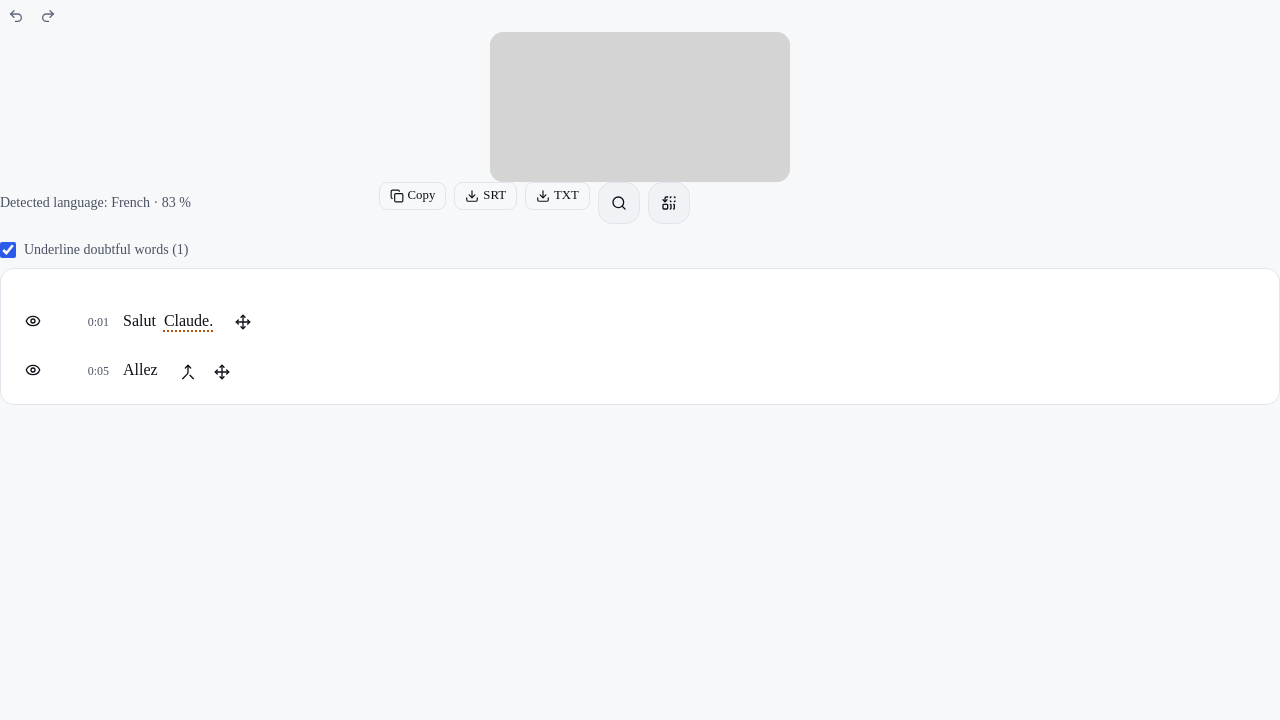
Test: TranscriptView › folds the search when the replace window opens
Click the button named "Search for a word" at (619, 203), box [601,185,637,221]
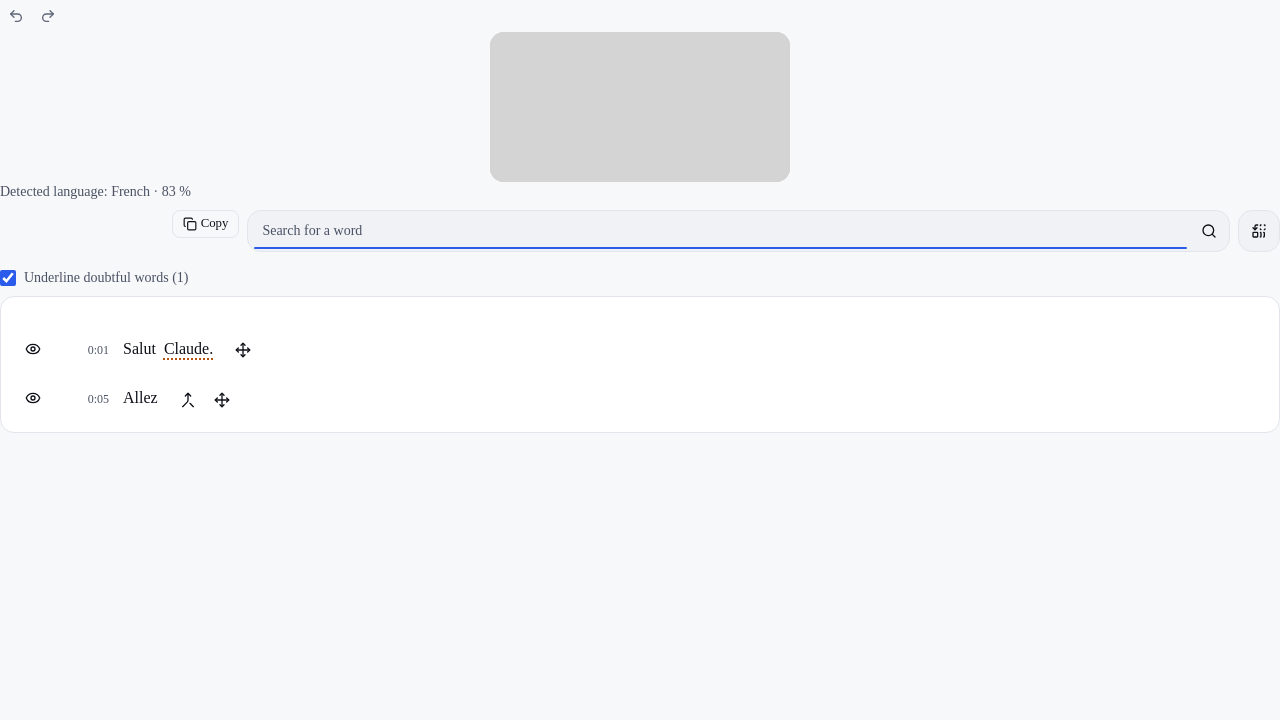
Click the button named "Replace a word" at (1259, 231), box [1241,213,1277,249]
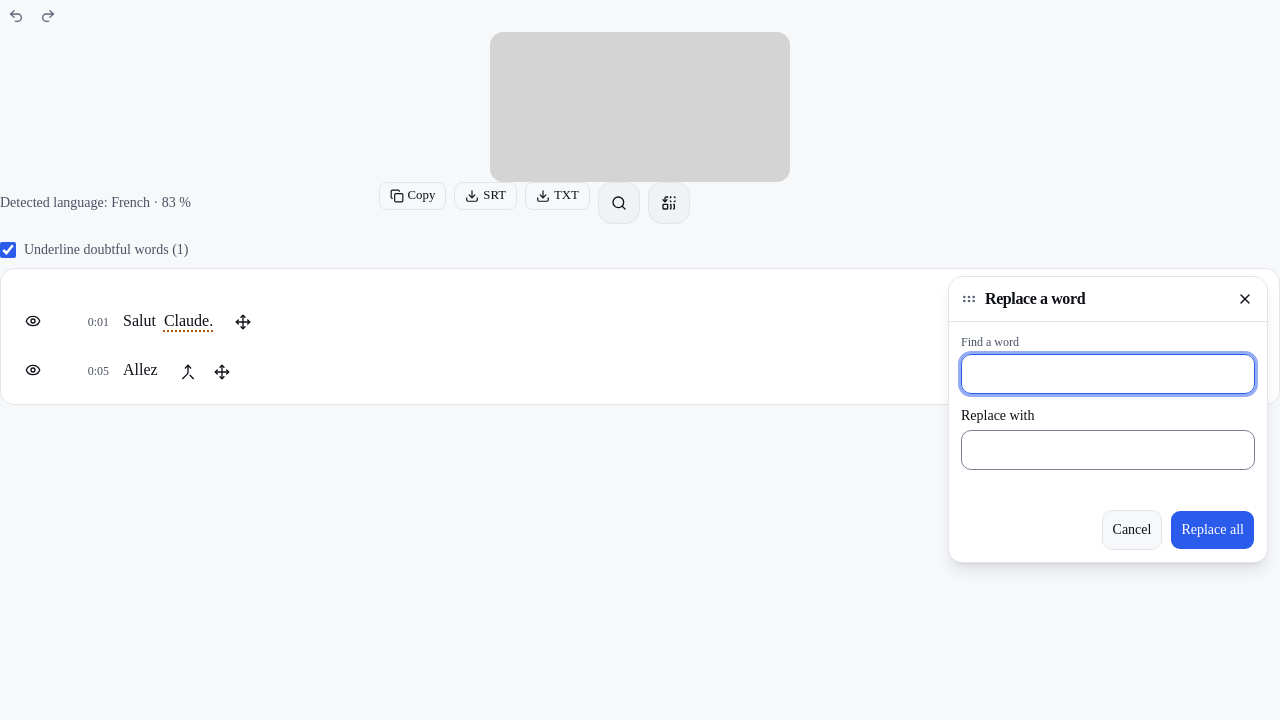
Expected: the button named "Search for a word" is shown, [601,185,637,221]
Expected: the field labelled "Find a word" is shown, [961,354,1255,394]
